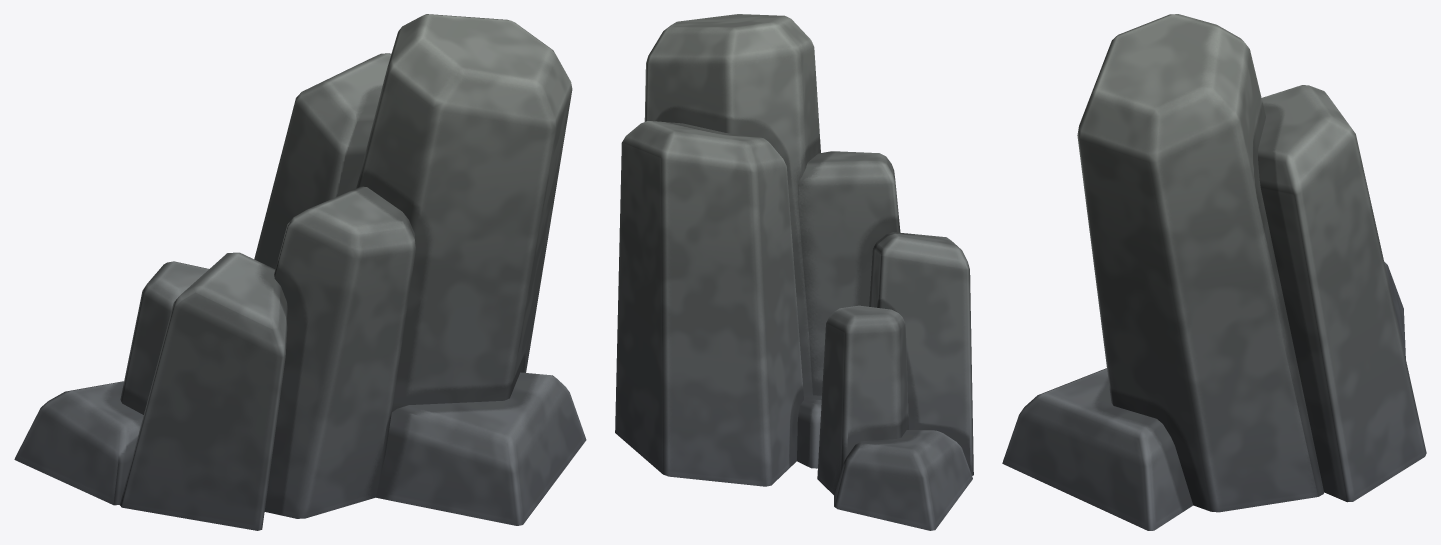
Rendered from crag_2.glb.
3 views of the same model, side by side, from view 1: azimuth 30°, elevation 25°; view 2: azimuth 150°, elevation 25°; view 3: azimuth 270°, elevation 25° (orthographic). The views are drawn at different scales.
Visible parts, largest first — view 1: crag_2; view 2: crag_2; view 3: crag_2.
Part boxes in pixels (box(x1,y1,x2,y2)): crag_2: box(14, 14, 586, 530); crag_2: box(615, 14, 973, 530); crag_2: box(1002, 14, 1426, 530).
Size of the model in its own units: 5 by 4.6 by 4.
Materials: 1 (1 with a texture image).
